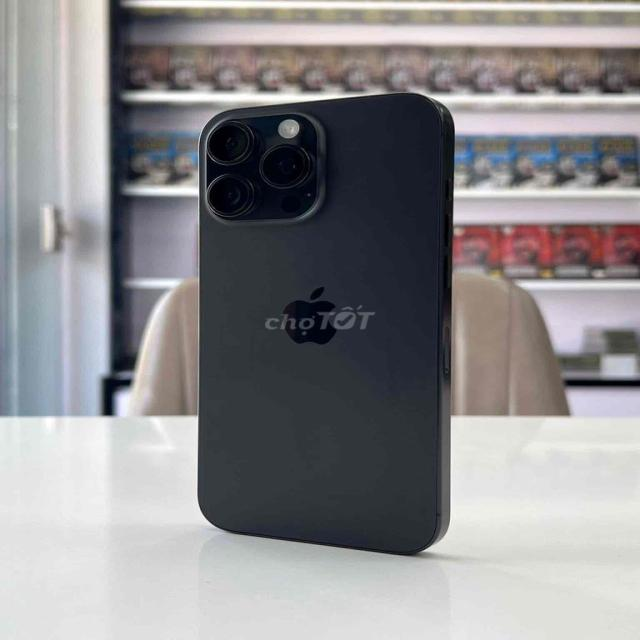gen_16: (198, 93, 453, 553)
